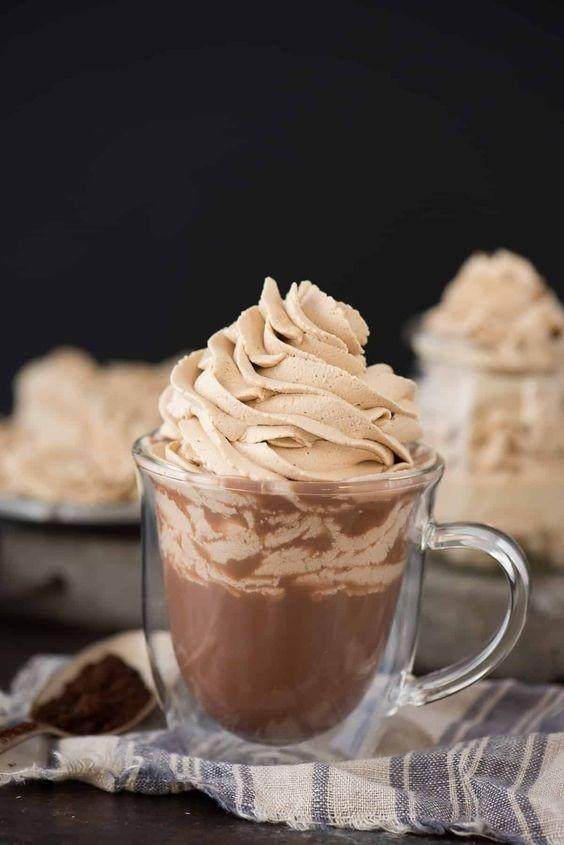glass-mug: (125, 403, 534, 759)
